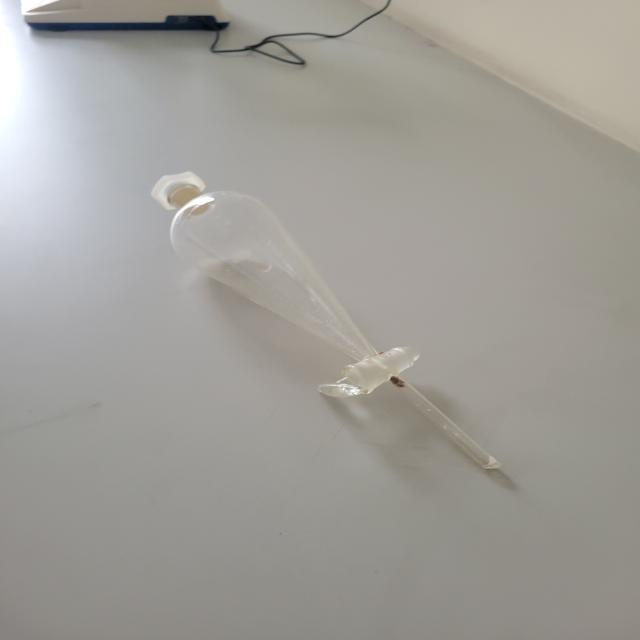Separating_Funnel: (108, 147, 536, 528)
